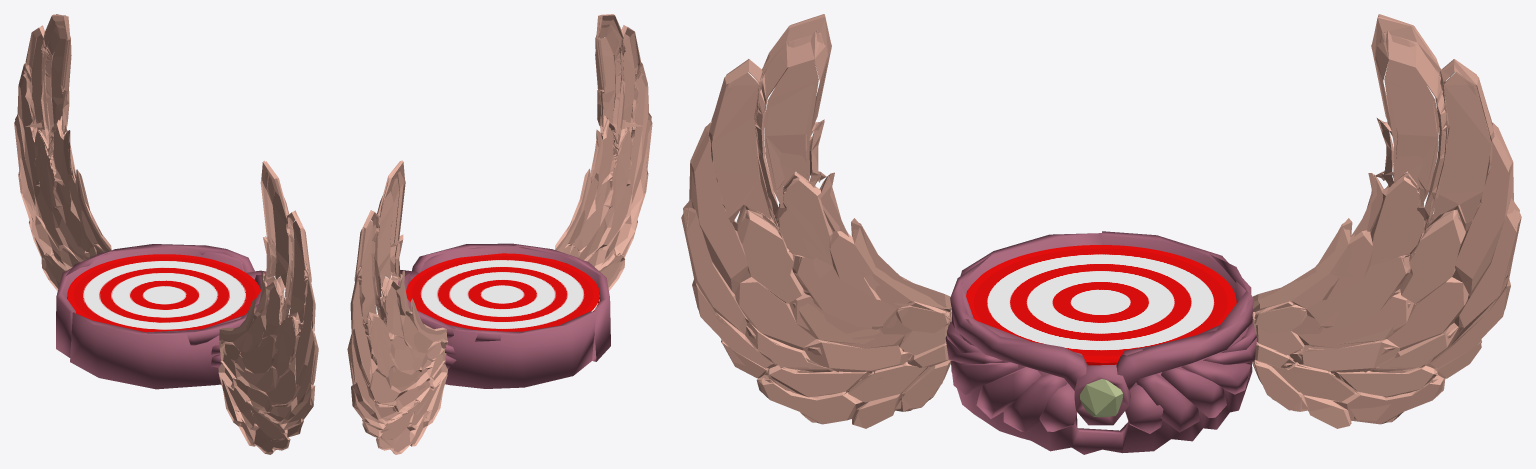
File: FinalTarget.fbx
3 views of the same model, side by side, from view 1: azimuth 30°, elevation 25°; view 2: azimuth 150°, elevation 25°; view 3: azimuth 270°, elevation 25° (orthographic). The views are drawn at different scales.
Parts seen in each view (by area): view 1: Wings, Plane005, Cylinder; view 2: Wings, Plane005, Cylinder; view 3: Wings, Plane005, Cylinder.
Part boxes in pixels (x1=…): Wings: x1=14, y1=14, x2=318, y2=454; Plane005: x1=56, y1=244, x2=268, y2=389; Cylinder: x1=67, y1=254, x2=260, y2=332; Wings: x1=347, y1=14, x2=652, y2=454; Plane005: x1=398, y1=243, x2=610, y2=388; Cylinder: x1=406, y1=253, x2=599, y2=331; Wings: x1=681, y1=14, x2=1521, y2=428; Plane005: x1=945, y1=231, x2=1257, y2=454; Cylinder: x1=966, y1=245, x2=1236, y2=365.
Bounding box in the file's own units: 1156 × 1628 × 3001.
